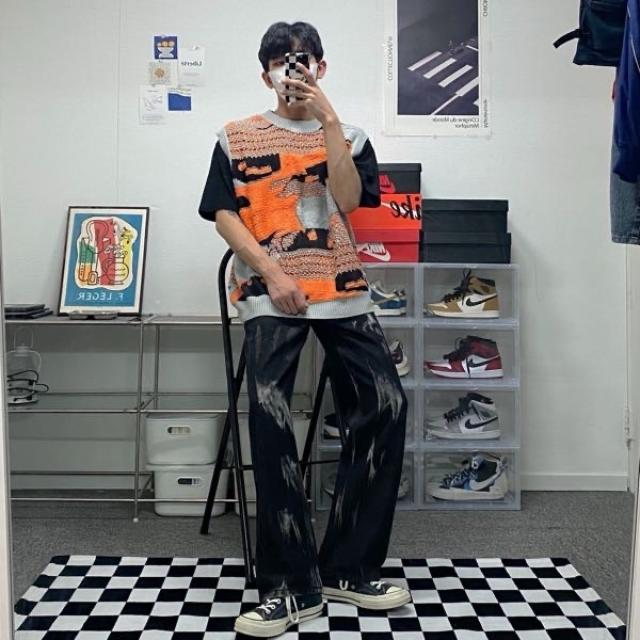denimpants: (244, 308, 408, 590)
shortsleeve: (199, 115, 380, 321)
